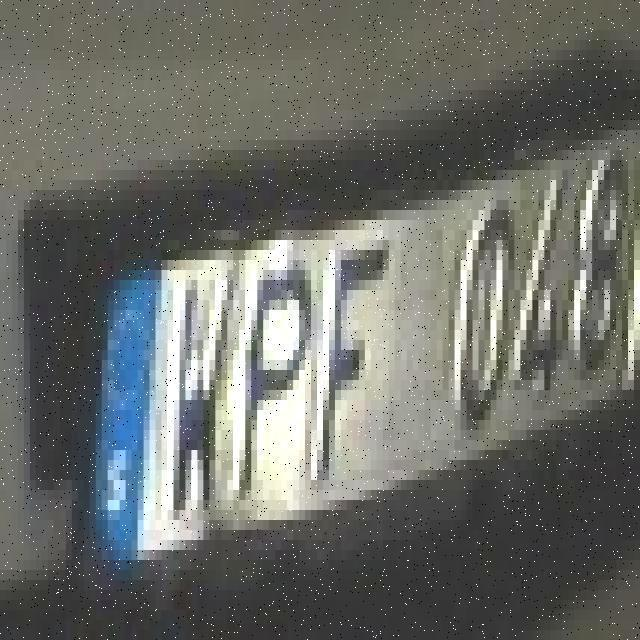LicensePlate: (63, 108, 640, 595)
